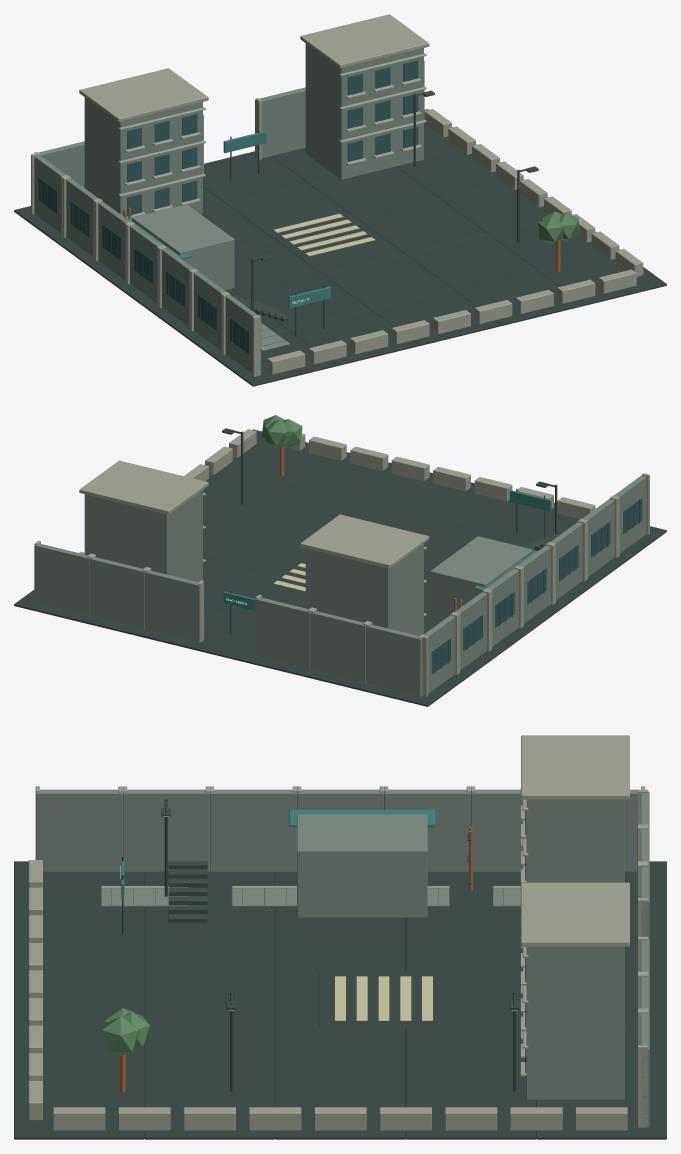
File: chapter_street.glb
3 views of the same model, one above another, from view 1: azimuth 30°, elevation 25°; view 2: azimuth 150°, elevation 25°; view 3: azimuth 270°, elevation 25° (orthographic). The views are drawn at different scales.
Parts seen in each view (by area): view 1: chapter_street; view 2: chapter_street; view 3: chapter_street.
Part boxes in pixels (<box>): chapter_street: <box>14,14,666,386</box>; chapter_street: <box>14,415,666,706</box>; chapter_street: <box>14,735,666,1139</box>.
Bounding box in the file's own units: 30 × 8.26 × 30.
